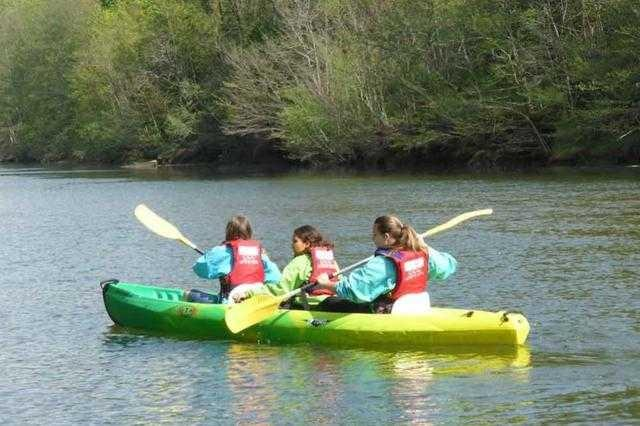kayak: (100, 280, 529, 350)
